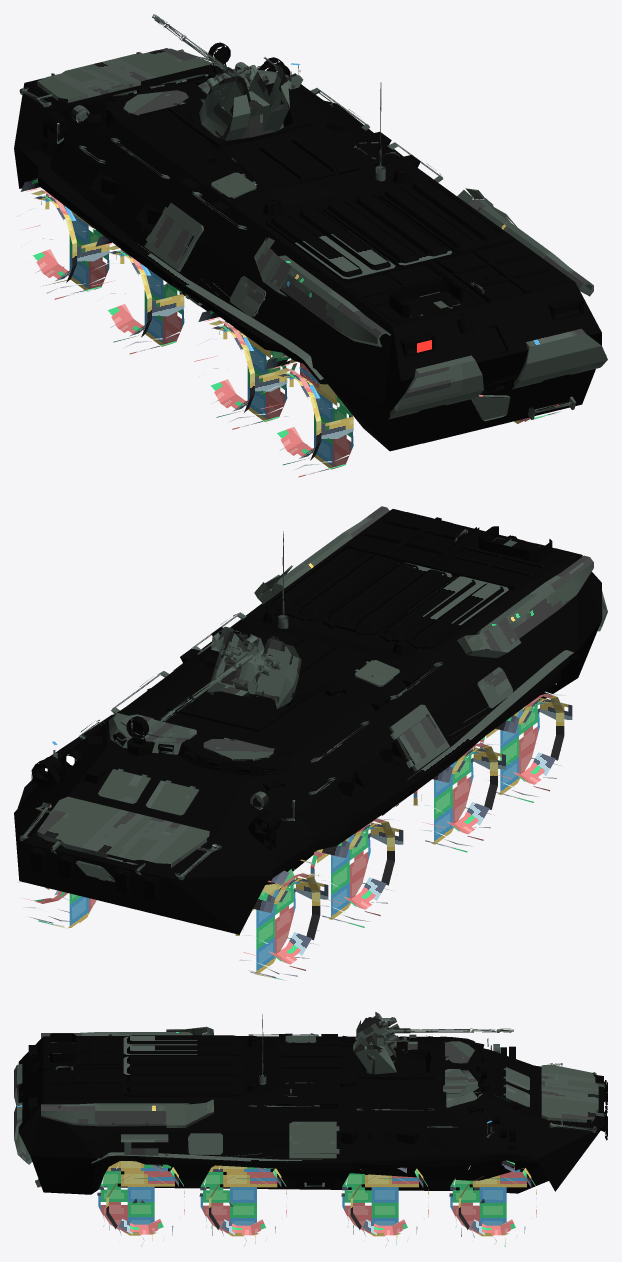
File: btr82-50pct.glb
3 renders of one model, top to bottom at view 1: azimuth 30°, elevation 25°; view 2: azimuth 150°, elevation 25°; view 3: azimuth 270°, elevation 25°, orthographic. The views are drawn at different scales.
Visible parts, largest first — view 1: hull_material_0, hull_material_1, turret_material_3, Object_444_material_9, Object_441_material_9, Object_428_material_9, Object_436_material_9; view 2: hull_material_0, hull_material_1, turret_material_3, Object_428_material_9, Object_436_material_9, Object_444_material_9, Object_441_material_9, Object_431_material_9; view 3: hull_material_0, hull_material_1, Object_446_material_9, Object_439_material_9, Object_434_material_9, Object_431_material_9, turret_material_3.
Boxes of the visible parts, x1,y1,x2,y2 form: hull_material_0: [14, 42, 601, 451]; hull_material_1: [19, 48, 607, 421]; turret_material_3: [152, 14, 303, 140]; Object_444_material_9: [261, 355, 353, 477]; Object_441_material_9: [194, 310, 287, 429]; Object_428_material_9: [16, 178, 109, 299]; Object_436_material_9: [92, 236, 184, 354]; hull_material_0: [14, 509, 602, 934]; hull_material_1: [19, 506, 607, 882]; turret_material_3: [160, 626, 301, 721]; Object_428_material_9: [235, 859, 328, 980]; Object_436_material_9: [310, 817, 403, 927]; Object_444_material_9: [480, 683, 572, 802]; Object_441_material_9: [413, 732, 505, 852]; Object_431_material_9: [17, 882, 96, 928]; hull_material_0: [18, 1033, 607, 1194]; hull_material_1: [14, 1014, 605, 1187]; Object_446_material_9: [97, 1161, 184, 1246]; Object_439_material_9: [199, 1165, 287, 1246]; Object_434_material_9: [341, 1167, 428, 1246]; Object_431_material_9: [449, 1160, 536, 1246]; turret_material_3: [353, 1012, 513, 1076].
Size of the model in its own units: 4.62 by 4.22 by 11.
Materials: 10 (10 with a texture image).
